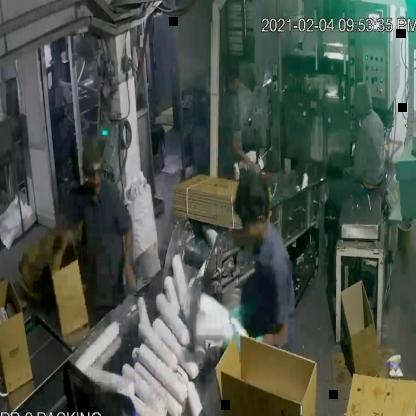no_glove: (116, 220, 146, 306), (225, 126, 266, 182), (49, 225, 76, 285)
